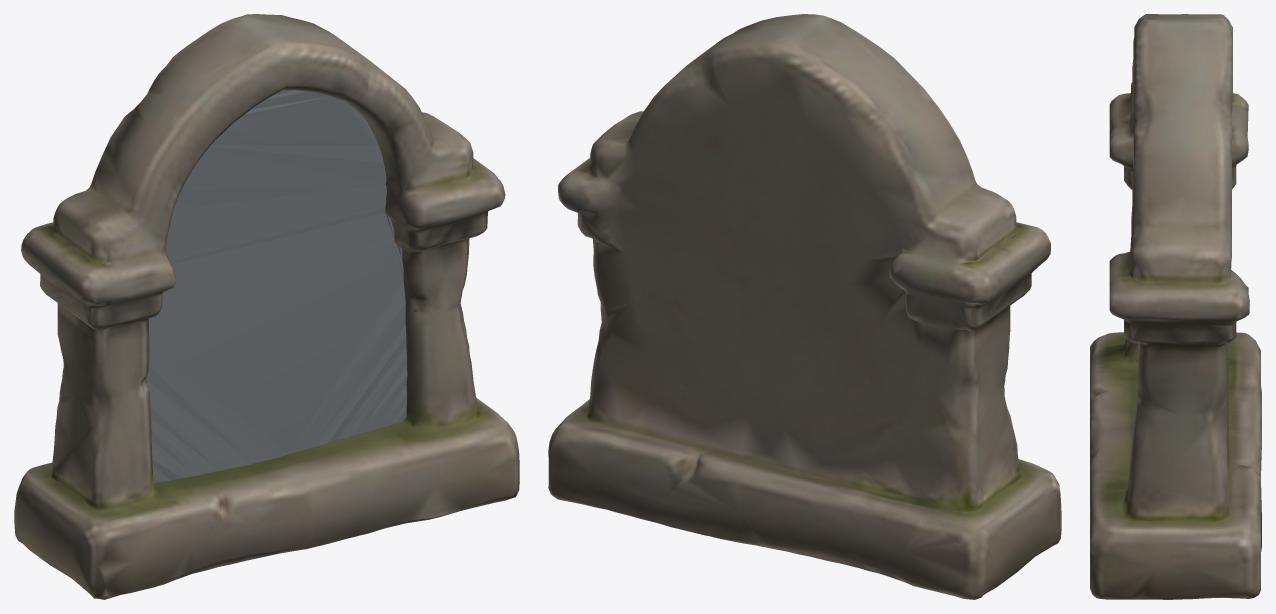
The model's file is lapide-arco.glb.
3 renders of one model, left to right at view 1: azimuth 30°, elevation 25°; view 2: azimuth 150°, elevation 25°; view 3: azimuth 270°, elevation 25°, orthographic. The views are drawn at different scales.
Parts seen in each view (by area): view 1: tripo_node_2992c755-6fa2-4b75-9a75-40ed695a6f47; view 2: tripo_node_2992c755-6fa2-4b75-9a75-40ed695a6f47; view 3: tripo_node_2992c755-6fa2-4b75-9a75-40ed695a6f47.
Boxes of the visible parts, left/top/right/bottom form: tripo_node_2992c755-6fa2-4b75-9a75-40ed695a6f47: left=14, top=14, right=519, bottom=599; tripo_node_2992c755-6fa2-4b75-9a75-40ed695a6f47: left=548, top=14, right=1061, bottom=599; tripo_node_2992c755-6fa2-4b75-9a75-40ed695a6f47: left=1090, top=14, right=1261, bottom=599.
Size of the model in its own units: 0.9199 by 0.998 by 0.3262.
Materials: 2 (1 with a texture image).
